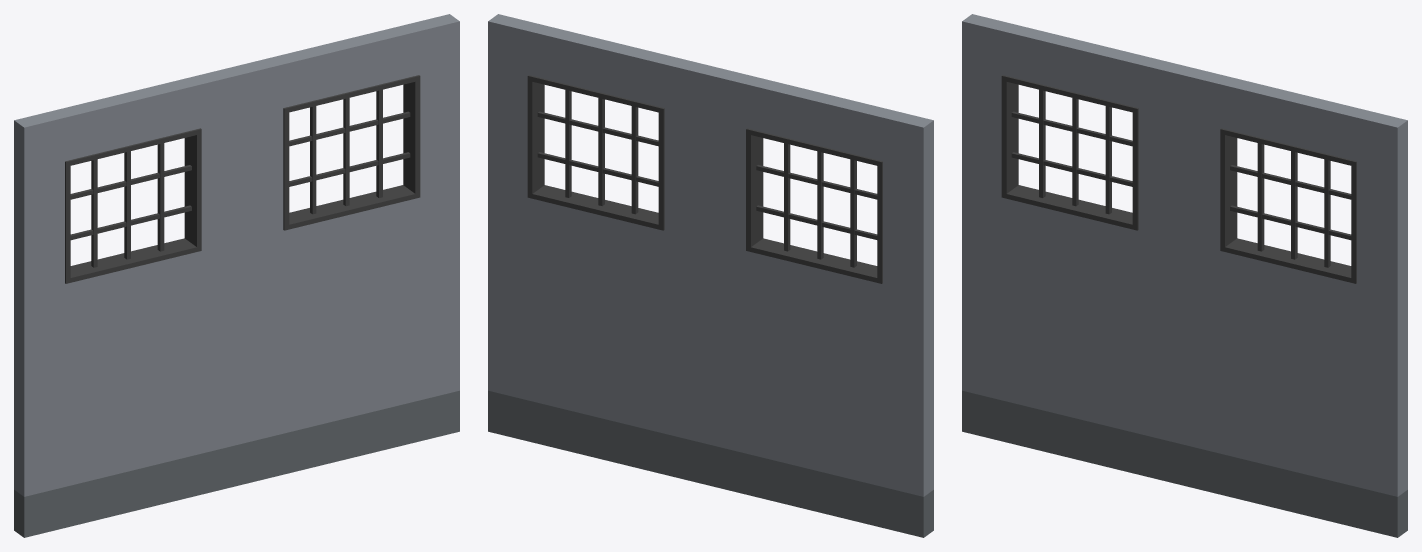
Rendered from Wall3_04.fbx.
The picture shows the model from 3 angles, left to right: view 1: azimuth 30°, elevation 25°; view 2: azimuth 150°, elevation 25°; view 3: azimuth 330°, elevation 25°; orthographic projection.
Parts seen in each view (by area): view 1: Wall3_04; view 2: Wall3_04; view 3: Wall3_04.
Part boxes in pixels (x1,y1,x2,y2): Wall3_04: (14, 14, 459, 537); Wall3_04: (488, 14, 933, 537); Wall3_04: (962, 14, 1407, 537).
Size of the model in its own units: 1000 by 900 by 48.82.
